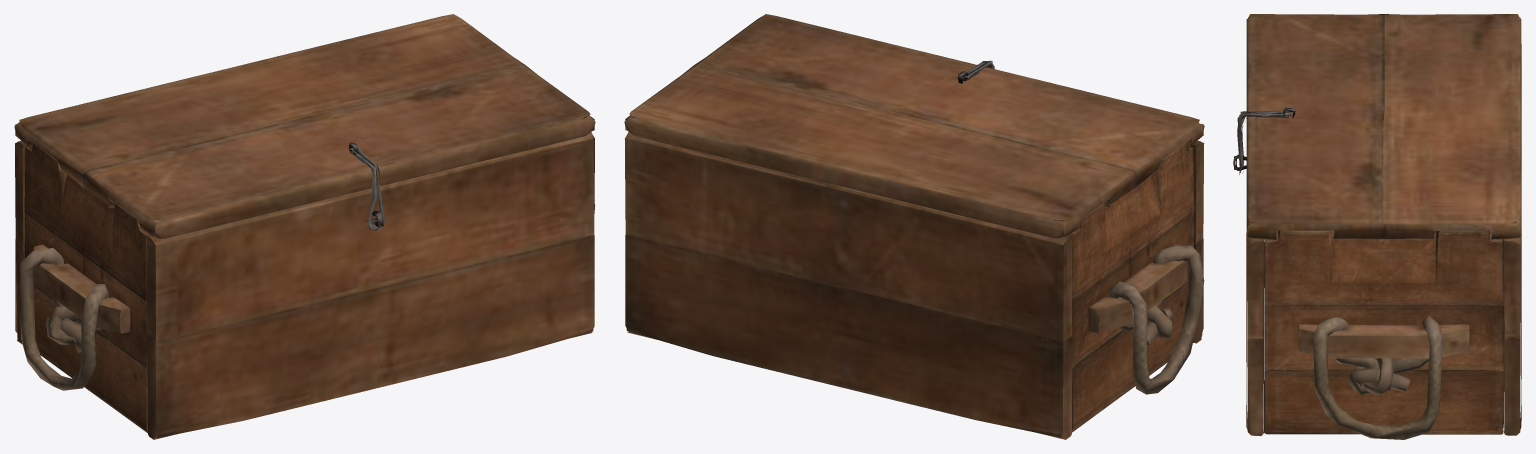
The model's file is crate_small.glb.
3 views of the same model, side by side, from view 1: azimuth 30°, elevation 25°; view 2: azimuth 150°, elevation 25°; view 3: azimuth 270°, elevation 25° (orthographic). The views are drawn at different scales.
Visible parts, largest first — view 1: wooden_crate_01, wooden_crate_01_lid, wooden_crate_01_latch; view 2: wooden_crate_01, wooden_crate_01_lid; view 3: wooden_crate_01_lid, wooden_crate_01, wooden_crate_01_latch.
Part boxes in pixels (left/top/right/bottom): wooden_crate_01: left=15, top=132, right=595, bottom=439; wooden_crate_01_lid: left=14, top=14, right=595, bottom=238; wooden_crate_01_latch: left=349, top=146, right=384, bottom=230; wooden_crate_01: left=625, top=131, right=1204, bottom=439; wooden_crate_01_lid: left=624, top=14, right=1204, bottom=238; wooden_crate_01_lid: left=1246, top=14, right=1521, bottom=239; wooden_crate_01: left=1233, top=154, right=1521, bottom=439; wooden_crate_01_latch: left=1237, top=111, right=1292, bottom=174.
Bounding box in the file's own units: 0.821 × 0.3482 × 0.4076.
1 material, 1 textured.
